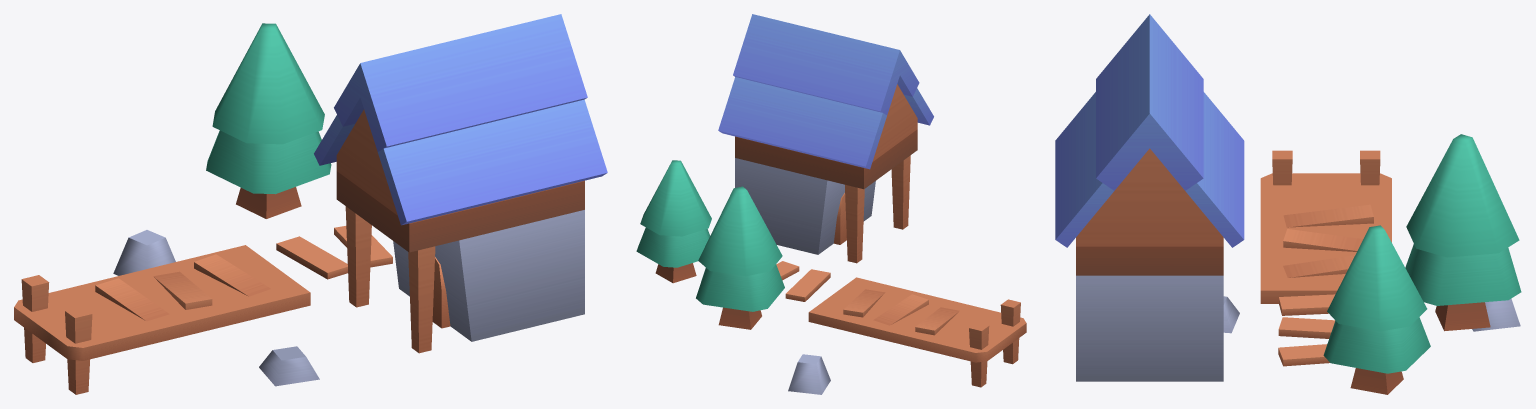
Rendered from port.fbx.
The picture shows the model from 3 angles, left to right: view 1: azimuth 30°, elevation 25°; view 2: azimuth 150°, elevation 25°; view 3: azimuth 270°, elevation 25°; orthographic projection. The views are drawn at different scales.
Visible parts, largest first — view 1: building_port; view 2: building_port; view 3: building_port.
Part boxes in pixels (x1=…): building_port: x1=14, y1=14, x2=607, y2=394; building_port: x1=636, y1=14, x2=1026, y2=394; building_port: x1=1055, y1=14, x2=1521, y2=394.
Bounding box in the file's own units: 94.27 × 61.76 × 79.67.
